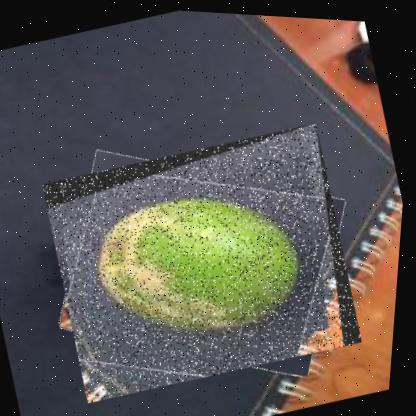orange_rotten: (31, 107, 379, 415)
